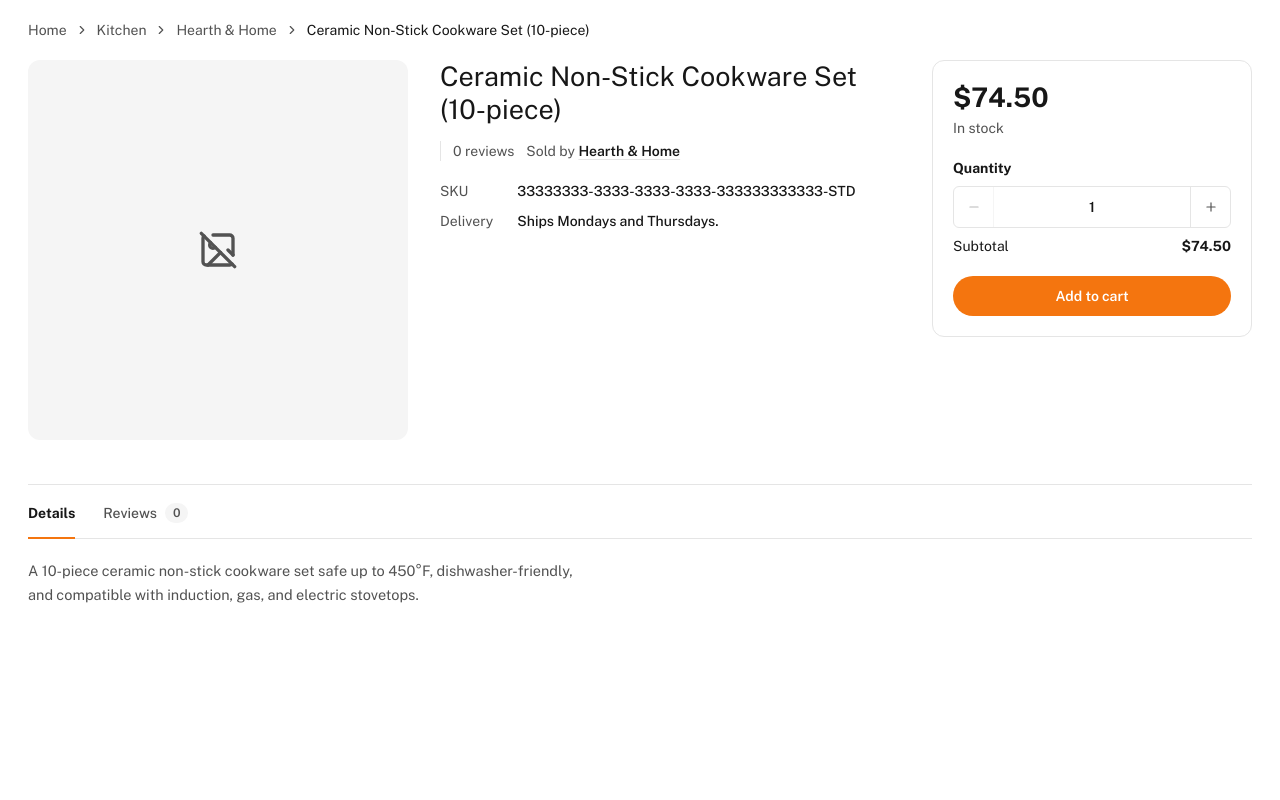
review flow › tells a buyer who has not purchased it that only buyers can review
Click the tab "Reviews 0". click: (146, 514)
box: [103, 489, 188, 539]
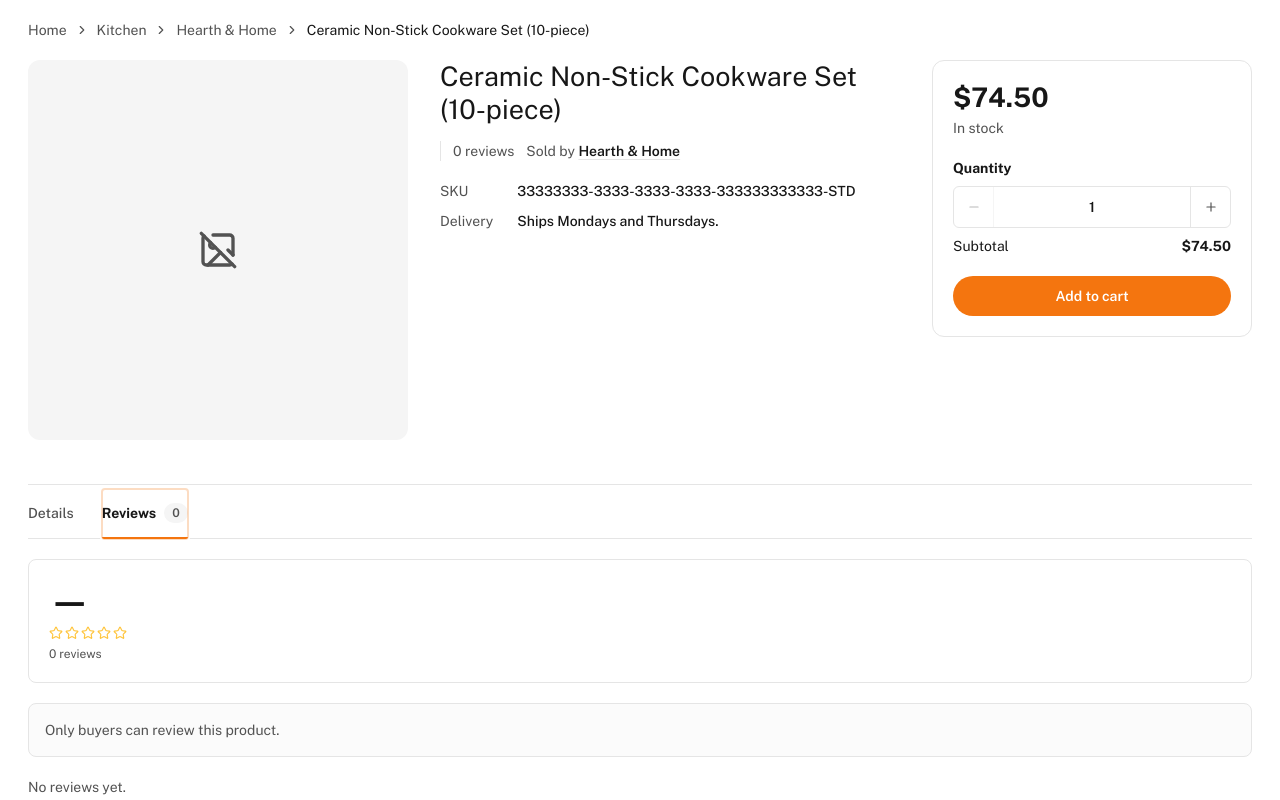
Result: the text "Only buyers can review this product." is shown at [28, 703, 1252, 757]
